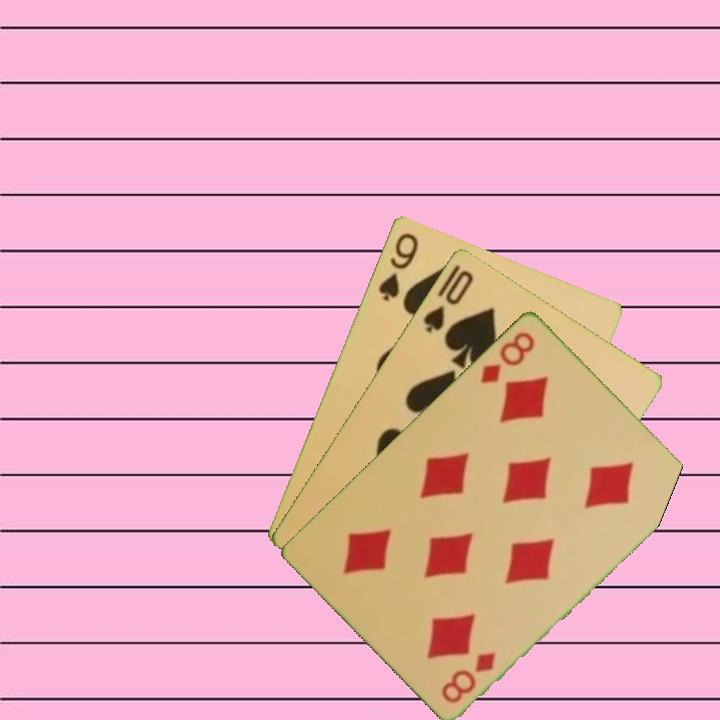10s: (419, 265, 477, 336)
8d: (476, 327, 538, 386), (437, 647, 499, 706)
9s: (375, 228, 421, 304)
